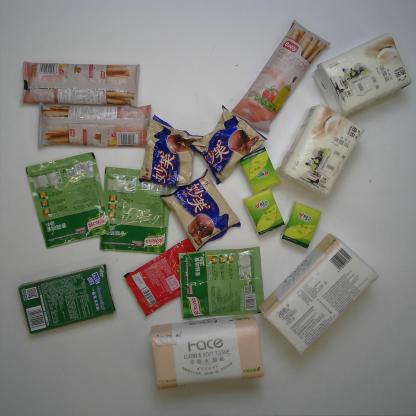Candy: (122, 236, 198, 318)
Dessert: (230, 17, 333, 135), (17, 262, 117, 335), (158, 167, 242, 252), (186, 104, 270, 186), (18, 60, 141, 108), (36, 99, 152, 149), (137, 114, 204, 187)
Seasoner: (25, 150, 113, 250), (98, 166, 172, 254), (178, 246, 266, 319)
Tissue: (258, 232, 380, 356), (150, 312, 266, 390), (274, 102, 366, 200), (311, 31, 412, 118), (242, 187, 286, 238), (238, 145, 282, 195), (280, 201, 323, 250)
